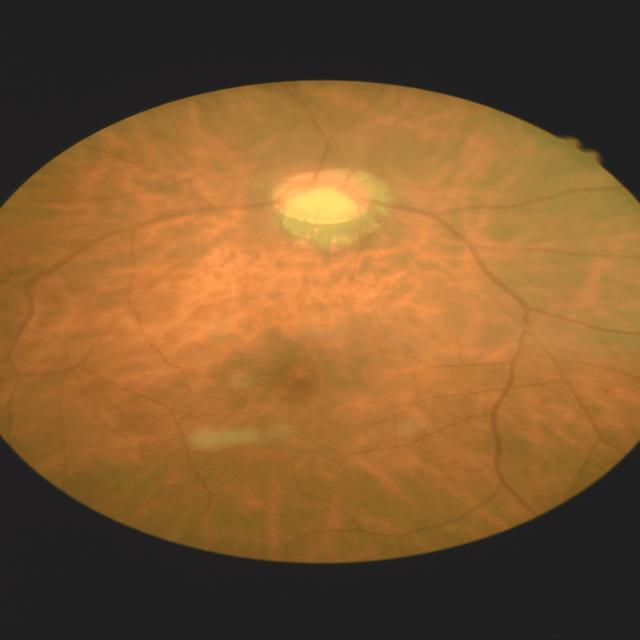cup: (283, 178, 359, 215)
disk: (270, 168, 370, 222)
